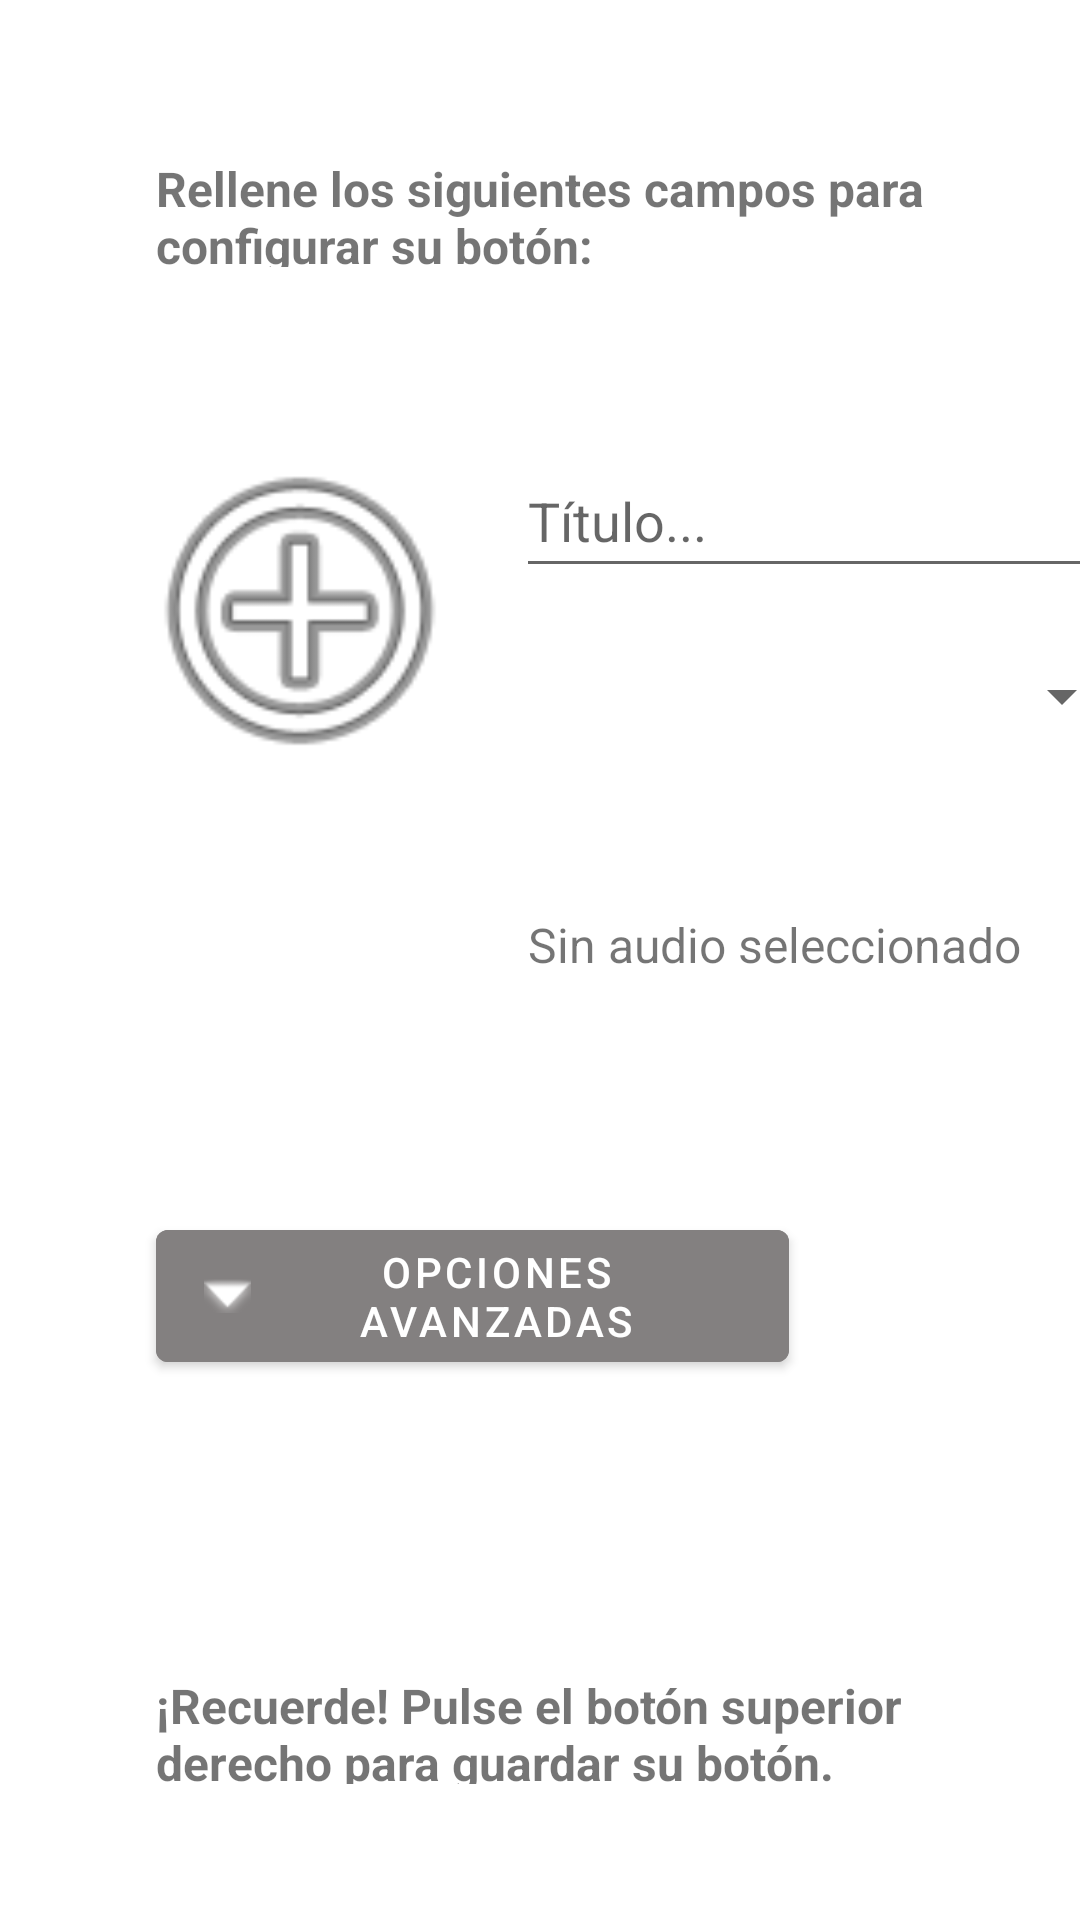

Where icons sit on this 1080w x 1920h app screen, as (x1,y1,x2,y2):
add: (166,477,434,745)
